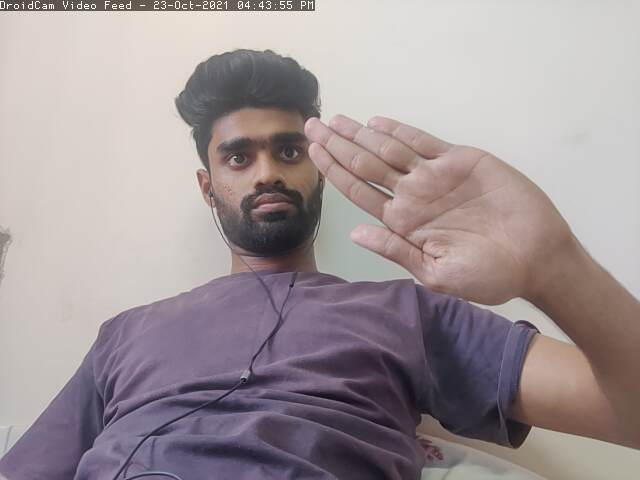Stop: (304, 112, 582, 305)
